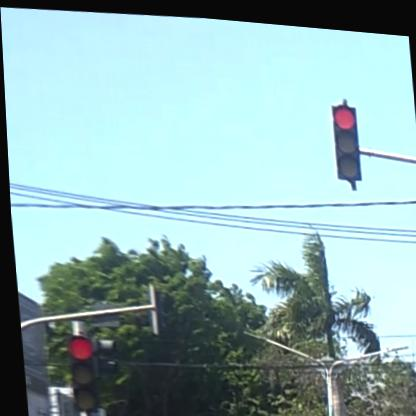red: (331, 98, 362, 174), (66, 335, 93, 412)
